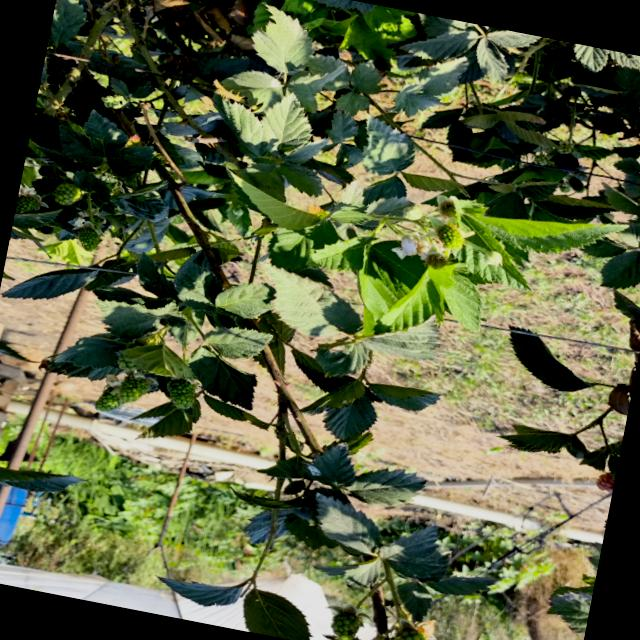boton: (403, 204, 424, 220), (484, 251, 502, 266)
flor: (392, 237, 418, 259)
verde: (117, 374, 150, 404), (15, 186, 48, 214), (168, 379, 196, 409), (437, 225, 465, 249), (95, 388, 122, 412), (53, 182, 81, 205), (78, 228, 100, 251), (438, 201, 456, 218)
